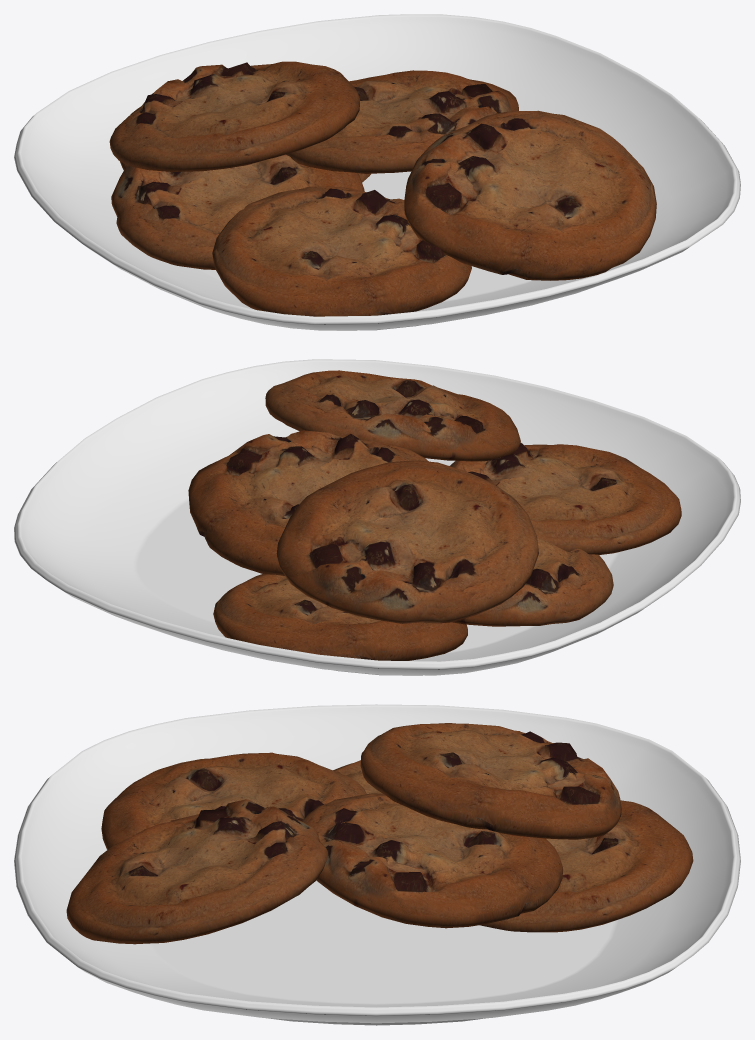
File: cookies.fbx
The picture shows the model from 3 angles, top to bottom: view 1: azimuth 30°, elevation 25°; view 2: azimuth 150°, elevation 25°; view 3: azimuth 270°, elevation 25°; orthographic projection. The views are drawn at different scales.
Parts seen in each view (by area): view 1: CohoChipCookie_re.004; view 2: CohoChipCookie_re.004; view 3: CohoChipCookie_re.004.
Boxes of the visible parts, x1,y1,x2,y2 form: CohoChipCookie_re.004: [14, 14, 740, 330]; CohoChipCookie_re.004: [14, 359, 740, 675]; CohoChipCookie_re.004: [14, 704, 740, 1025].
Size of the model in its own units: 18.02 by 3.72 by 17.98.
2 materials, 1 textured.
